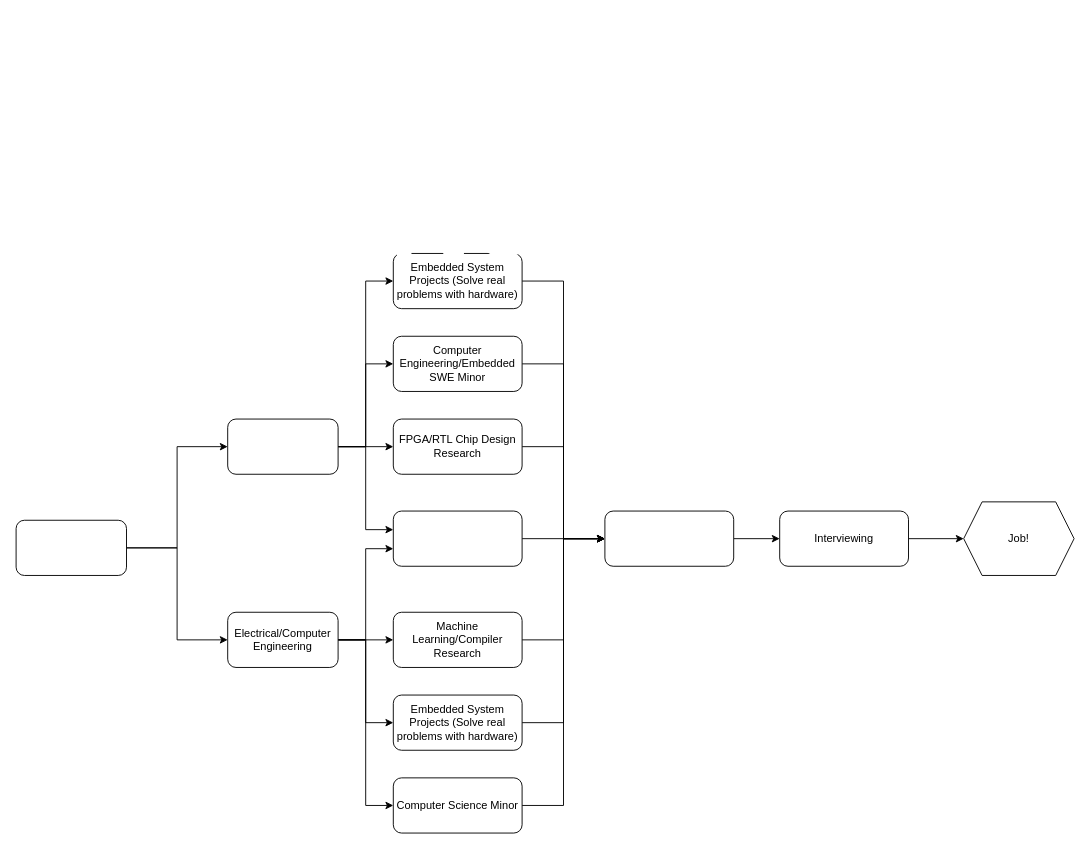
Some shapes in this 1090 by 849 pixel diagram are drawn without their labels. The centre of each missing label's shape, as x and y in pixels:
Computer Science: (282,446)
Embedded Internships: (457,538)
HighSchool: (70,547)
Portfolio + Resume: (669,538)
